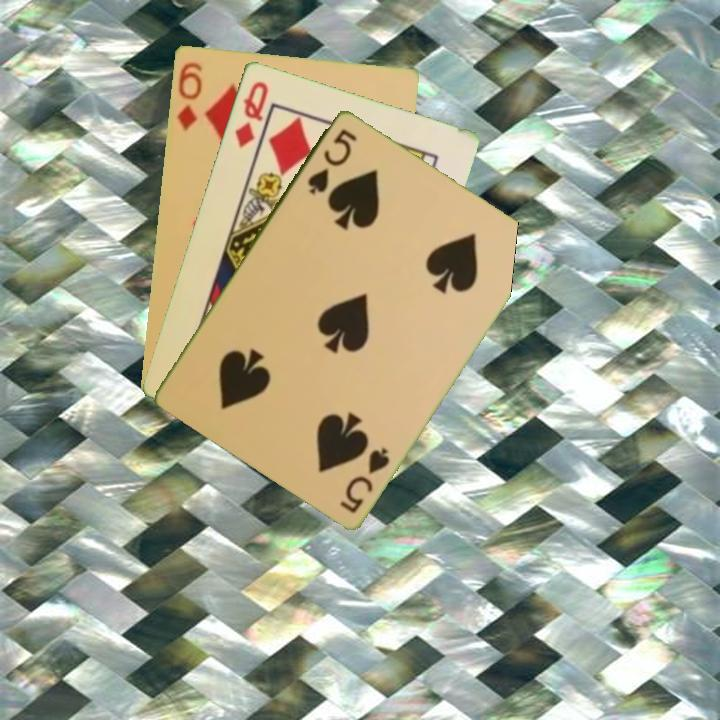5s: (303, 124, 361, 197), (336, 443, 393, 516)
6d: (173, 58, 205, 134)
Qd: (231, 77, 271, 150)
